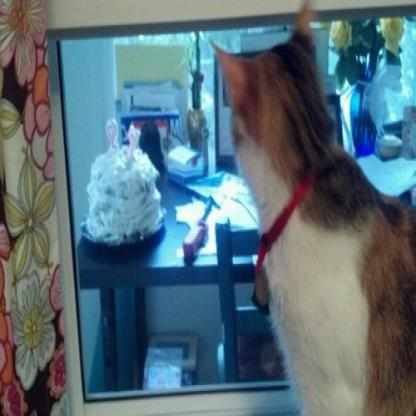Target: (213, 1, 416, 416)
